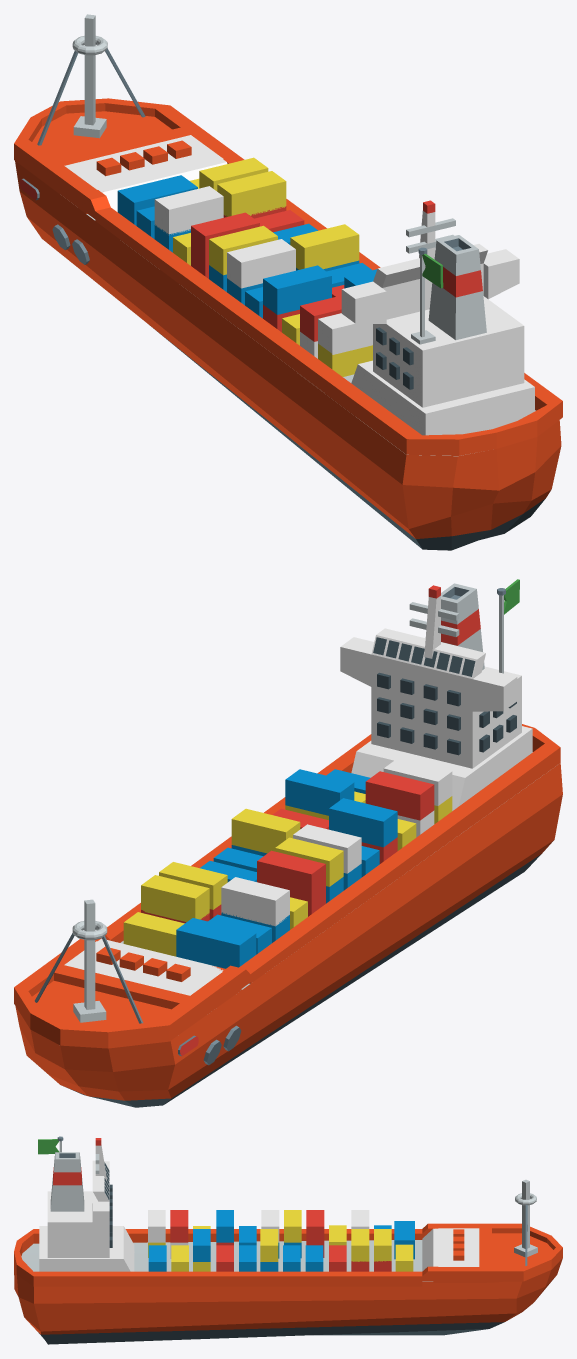
File: boat.obj
The picture shows the model from 3 angles, top to bottom: view 1: azimuth 30°, elevation 25°; view 2: azimuth 150°, elevation 25°; view 3: azimuth 270°, elevation 25°; orthographic projection. The views are drawn at different scales.
Visible parts, largest first — view 1: Boat_mesh1196106066, containerBoat_mesh1355834799.000; view 2: Boat_mesh1196106066, containerBoat_mesh1355834799.000; view 3: Boat_mesh1196106066, containerBoat_mesh1355834799.000.
Part boxes in pixels (x1,y1,x2,y2): Boat_mesh1196106066: (14,14,562,550); containerBoat_mesh1355834799.000: (117,175,197,225); Boat_mesh1196106066: (14,579,562,1107); containerBoat_mesh1355834799.000: (176,918,256,968); Boat_mesh1196106066: (14,1136,562,1344); containerBoat_mesh1355834799.000: (394,1221,414,1259).
Size of the model in its own units: 0.797 by 1.45 by 3.7.
